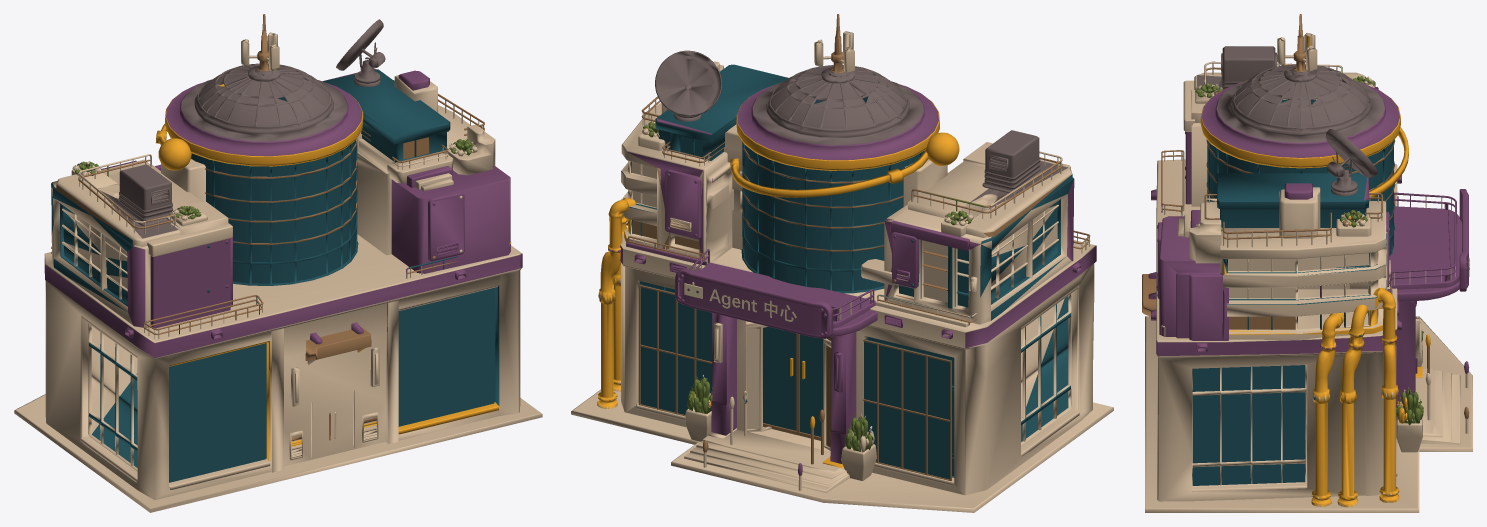
The model's file is CIVRUM_Agent_Center_Street.glb.
The picture shows the model from 3 angles, left to right: view 1: azimuth 30°, elevation 25°; view 2: azimuth 150°, elevation 25°; view 3: azimuth 270°, elevation 25°; orthographic projection. The views are drawn at different scales.
Visible parts, largest first — view 1: Agent_Center_Shell; view 2: Agent_Center_Shell; view 3: Agent_Center_Shell.
Boxes of the visible parts, left/top/right/bottom form: Agent_Center_Shell: left=14, top=14, right=542, bottom=512; Agent_Center_Shell: left=571, top=14, right=1113, bottom=512; Agent_Center_Shell: left=1142, top=14, right=1472, bottom=512.
Bounding box in the file's own units: 7 × 6.74 × 5.06.
